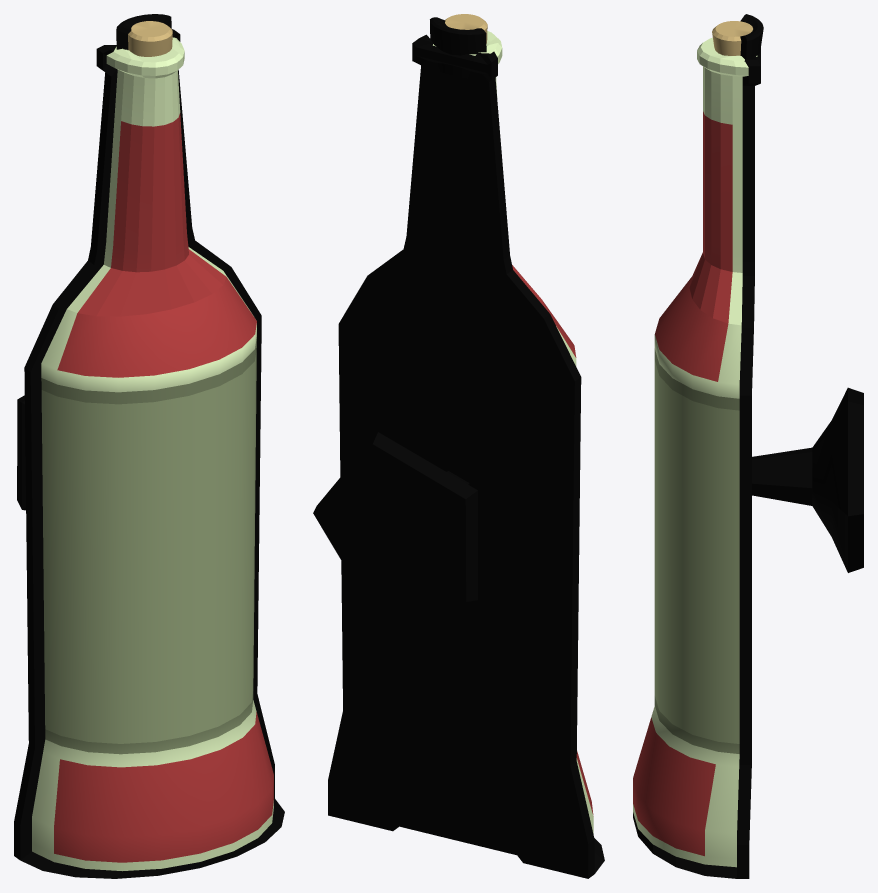
File: WineBottle.fbx
3 views of the same model, side by side, from view 1: azimuth 30°, elevation 25°; view 2: azimuth 150°, elevation 25°; view 3: azimuth 270°, elevation 25° (orthographic). The views are drawn at different scales.
Visible parts, largest first — view 1: pPyramid7; view 2: pPyramid7; view 3: pPyramid7.
Part boxes in pixels (bbox=[...]): pPyramid7: bbox=[14, 14, 284, 878]; pPyramid7: bbox=[313, 14, 604, 878]; pPyramid7: bbox=[633, 14, 863, 878].
Size of the model in its own units: 0.555 by 1.67 by 0.4423.
